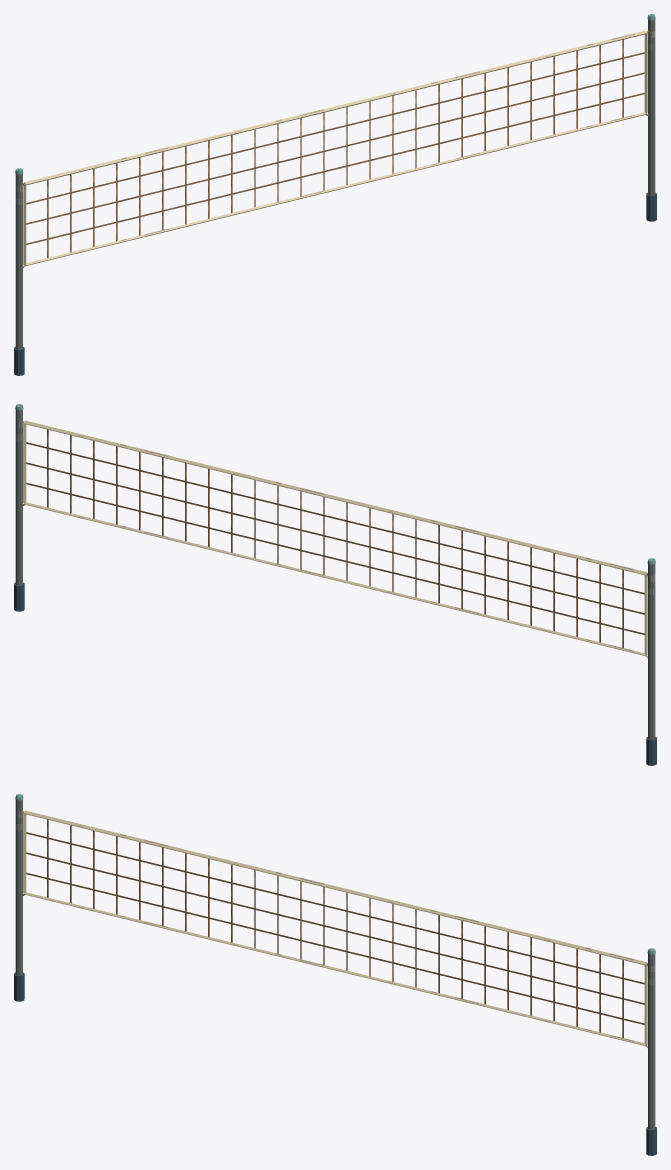
File: volleyball-net.glb
3 views of the same model, one above another, from view 1: azimuth 30°, elevation 25°; view 2: azimuth 150°, elevation 25°; view 3: azimuth 330°, elevation 25° (orthographic).
Visible parts, largest first — view 1: volleyball-net; view 2: volleyball-net; view 3: volleyball-net.
Boxes of the visible parts, x1=… form: volleyball-net: x1=14, y1=14, x2=656, y2=375; volleyball-net: x1=14, y1=404, x2=656, y2=765; volleyball-net: x1=14, y1=794, x2=656, y2=1155.
Size of the model in its own units: 8.28 by 2.51 by 0.124.
1 material, 1 textured.
